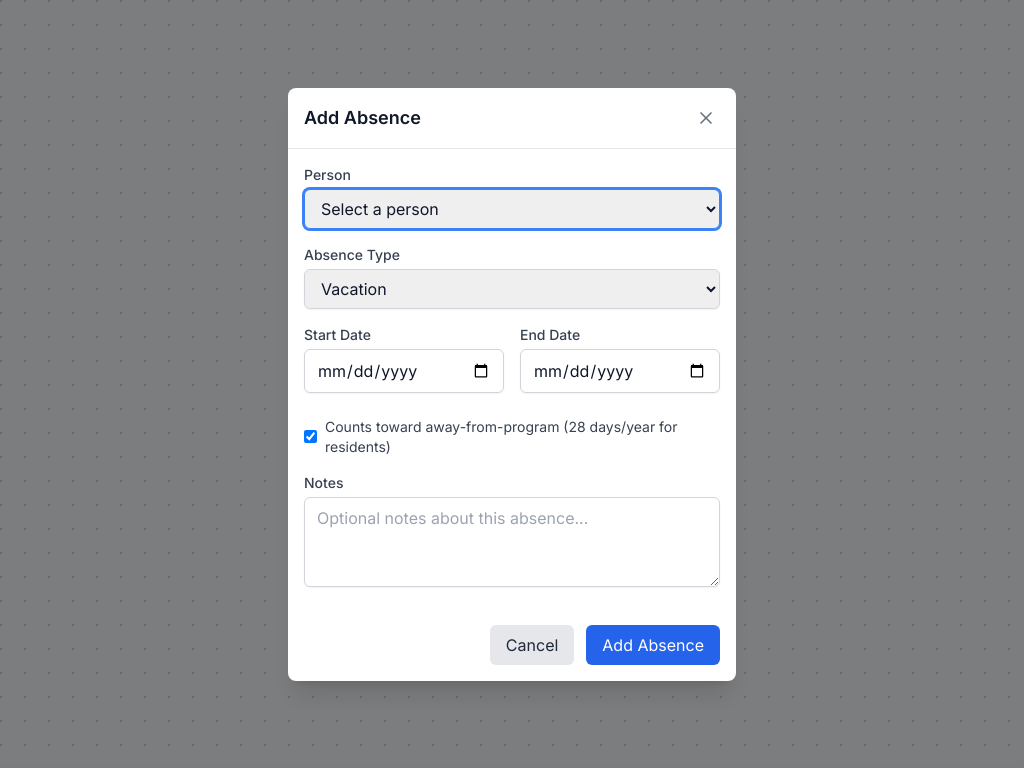
Scenario: AddAbsenceModal › Military-Specific Fields › should show deployment orders checkbox when deployment is selected
The width and height of the screenshot is (1024, 768).
Expected: the field labelled "has deployment orders" is not shown
Select deployment
Select "Deployment" in the dropdown labelled "Absence Type": (512, 288) [304,268,720,308]
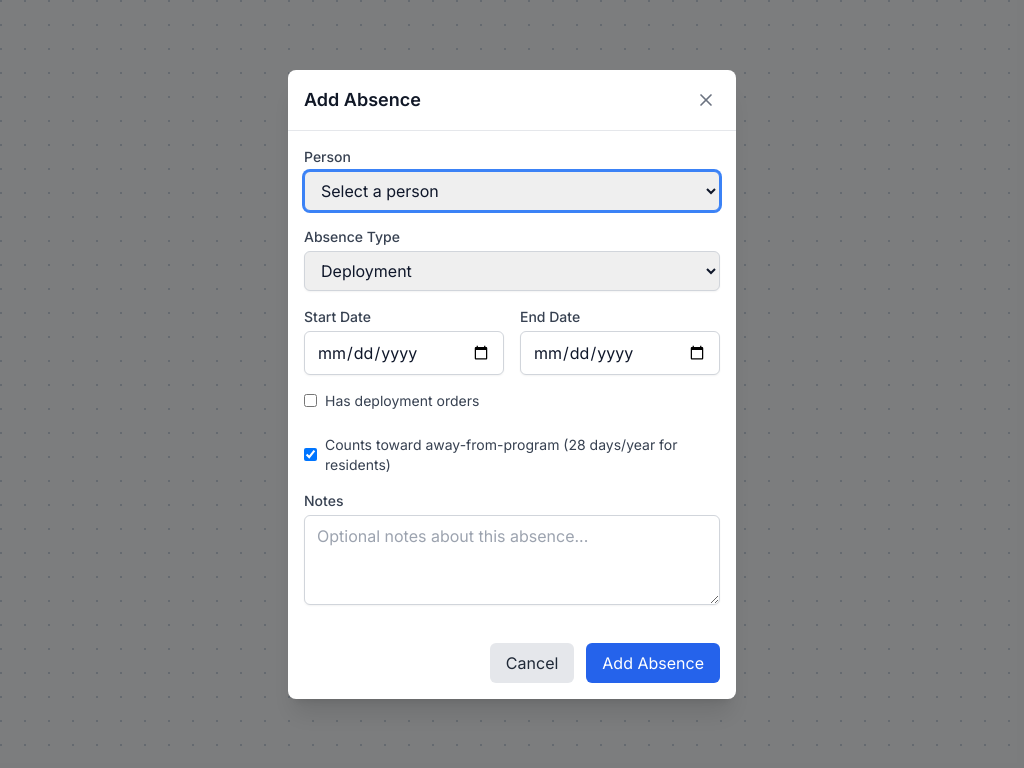
Expected: the checkbox labelled "Has deployment orders" is shown, [304,394,317,407]
